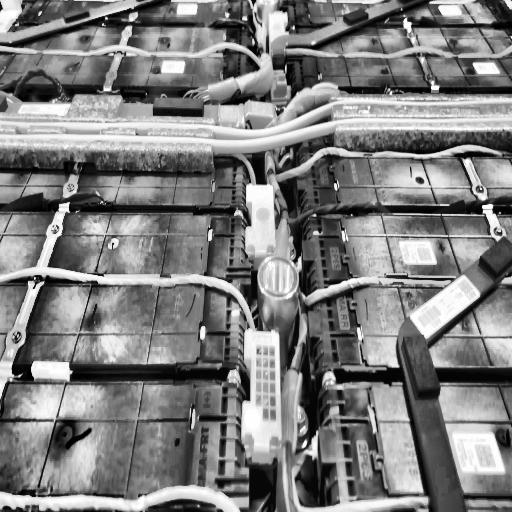busbar: (394, 224, 512, 512), (271, 0, 429, 100)
high_volt_cable: (263, 141, 512, 512), (0, 80, 512, 159), (0, 263, 255, 332), (0, 36, 259, 69), (0, 479, 243, 512), (284, 32, 512, 65)
low_volt_cable: (292, 196, 512, 227)
